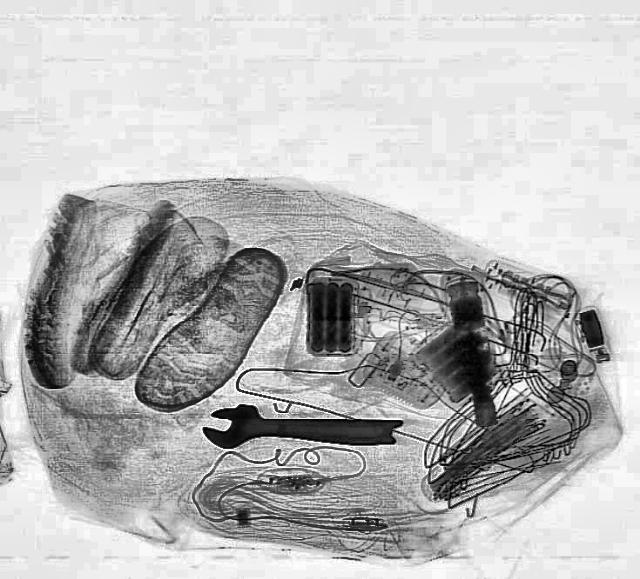Wrench: (200, 403, 402, 453)
